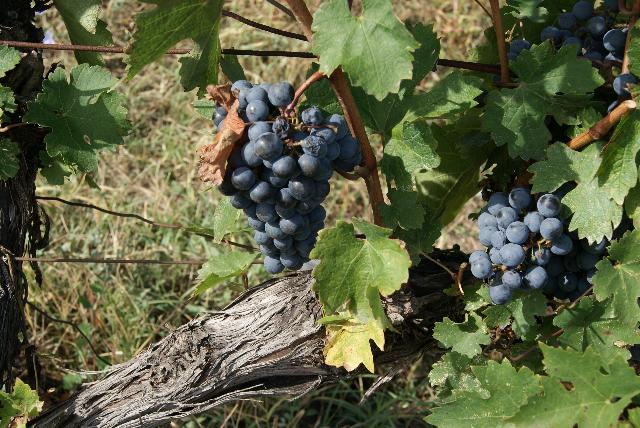grapes: (220, 81, 360, 274), (470, 186, 604, 305)
